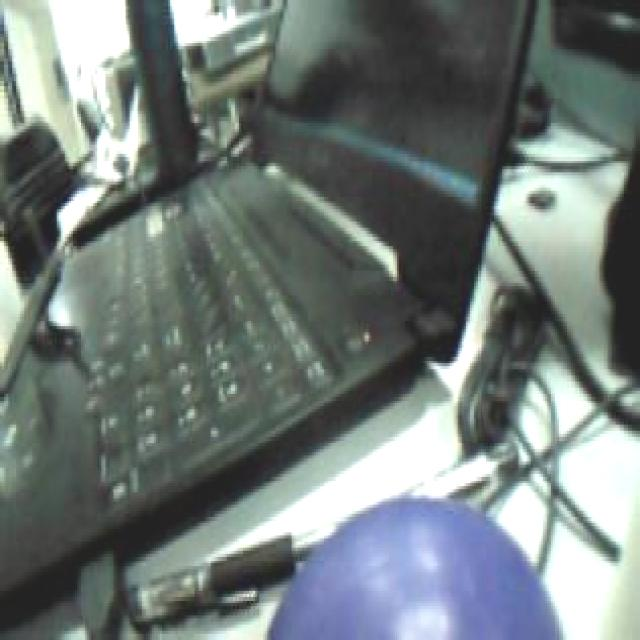BallPurple: (267, 492, 563, 640)
